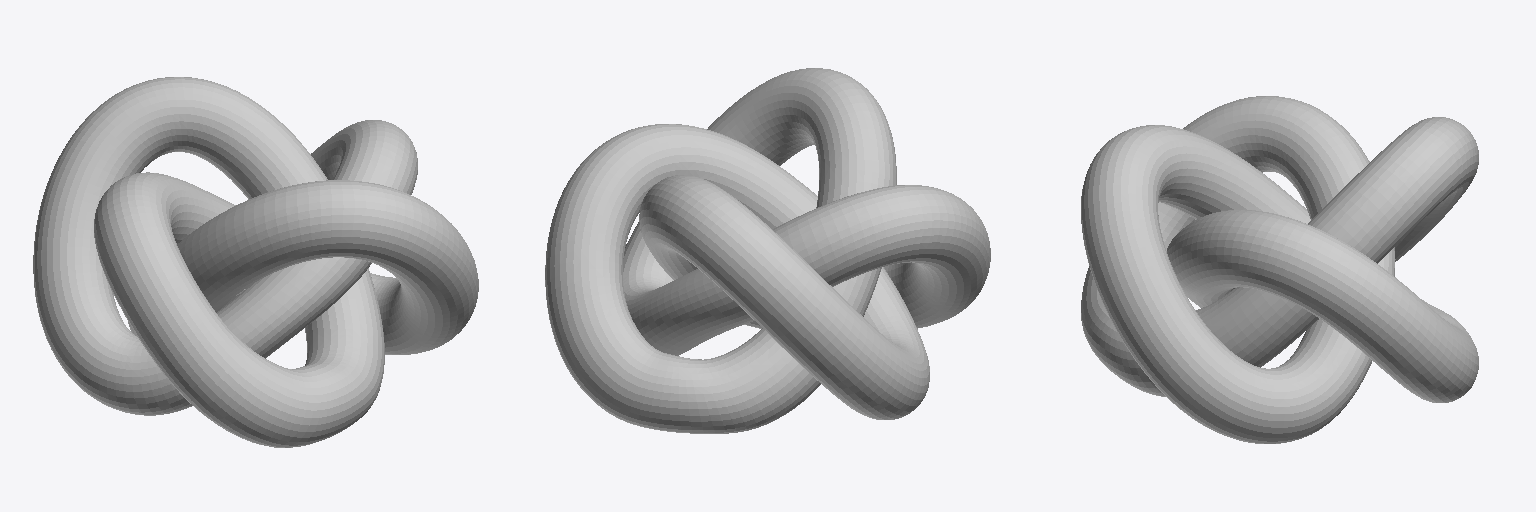
Rendered from OBJ_Knot.obj.
3 views of the same model, side by side, from view 1: azimuth 30°, elevation 25°; view 2: azimuth 150°, elevation 25°; view 3: azimuth 270°, elevation 25° (orthographic).
Parts seen in each view (by area): view 1: fca75fb15fe94fbdbe91f1cb501cce69; view 2: fca75fb15fe94fbdbe91f1cb501cce69; view 3: fca75fb15fe94fbdbe91f1cb501cce69.
Boxes of the visible parts, x1=… form: fca75fb15fe94fbdbe91f1cb501cce69: x1=33, y1=77, x2=478, y2=447; fca75fb15fe94fbdbe91f1cb501cce69: x1=545, y1=68, x2=990, y2=433; fca75fb15fe94fbdbe91f1cb501cce69: x1=1081, y1=96, x2=1478, y2=443.
Bounding box in the file's own units: 2.86 × 1.97 × 2.86.